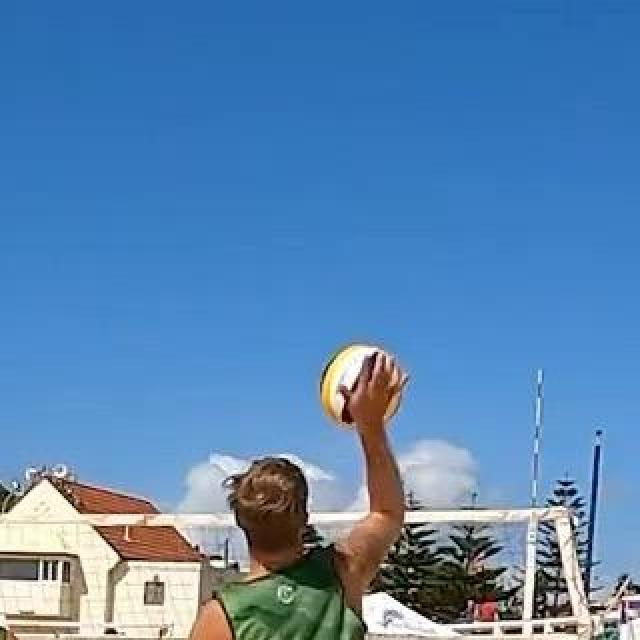volleyball: (318, 344, 404, 428)
